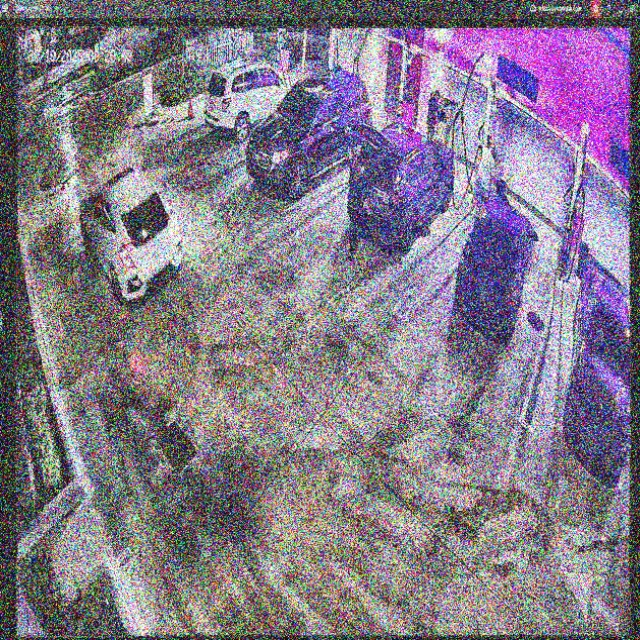Car: (245, 75, 370, 207), (348, 118, 452, 250), (85, 174, 184, 301), (455, 196, 537, 343), (203, 60, 306, 142)
